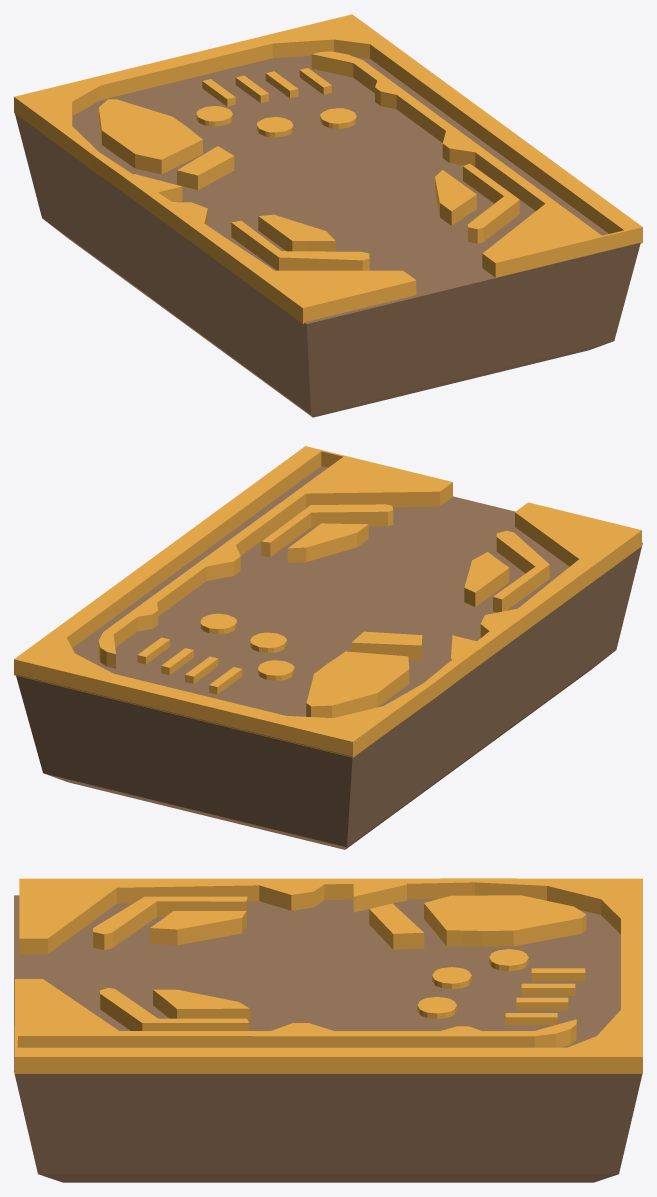
File: txpinball_b.gltf
3 renders of one model, top to bottom at view 1: azimuth 30°, elevation 25°; view 2: azimuth 150°, elevation 25°; view 3: azimuth 270°, elevation 25°, orthographic. The views are drawn at different scales.
Parts seen in each view (by area): view 1: mainback, main; view 2: mainback, main; view 3: mainback, main.
Boxes of the visible parts, box(x1,y1,x2,y2) form: mainback: box(15, 55, 640, 417); main: box(14, 14, 642, 323); mainback: box(15, 466, 642, 849); main: box(14, 446, 641, 757); mainback: box(14, 895, 642, 1182); main: box(14, 878, 642, 1073).
Size of the model in its own units: 4.02 by 1.5 by 5.99.
